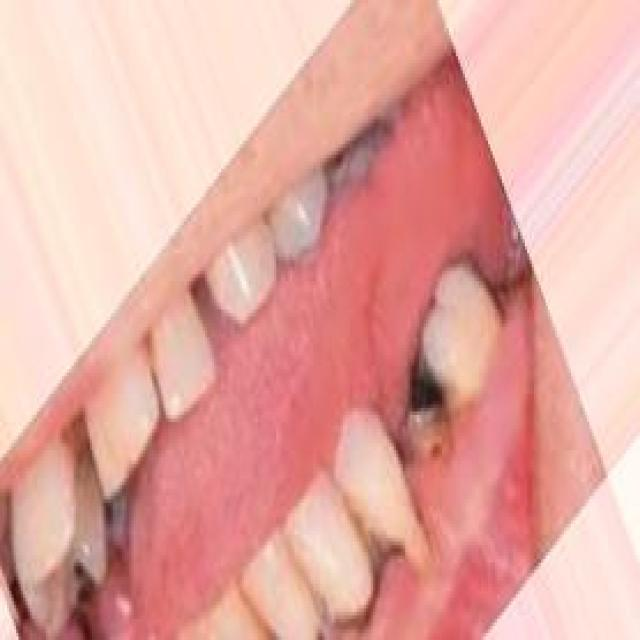caries: (395, 361, 463, 470)
